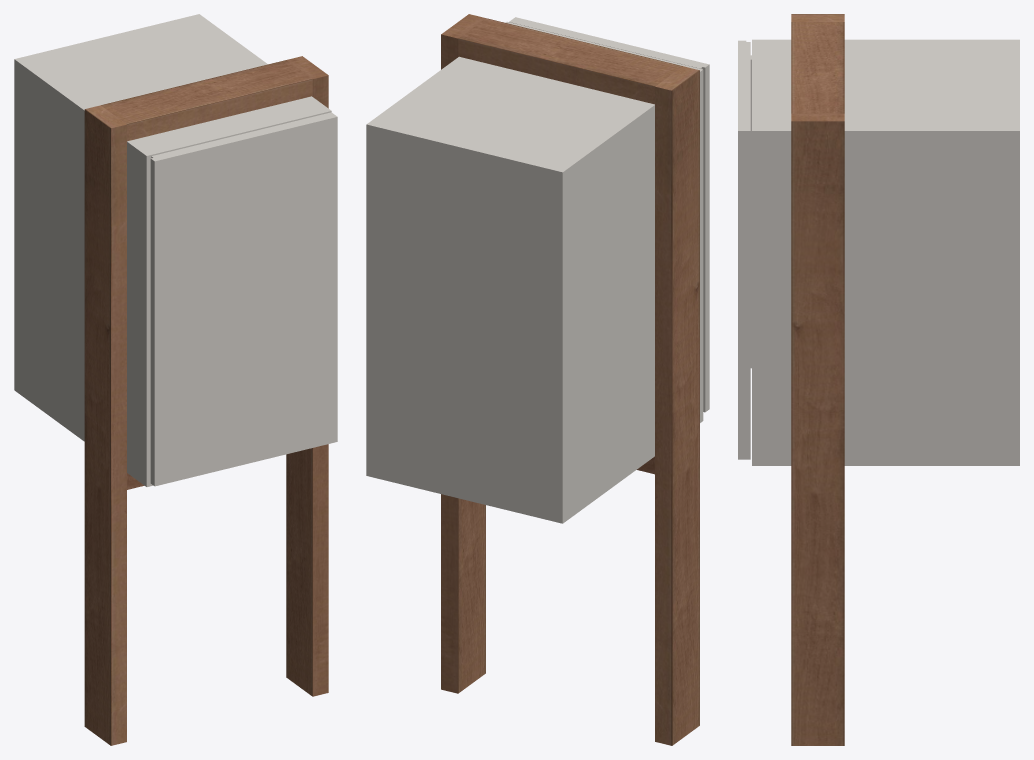
File: de-boxstand_jara.fbx
The picture shows the model from 3 angles, left to right: view 1: azimuth 30°, elevation 25°; view 2: azimuth 150°, elevation 25°; view 3: azimuth 270°, elevation 25°; orthographic projection. The views are drawn at different scales.
Parts seen in each view (by area): view 1: de-boxstand-jara; view 2: de-boxstand-jara; view 3: de-boxstand-jara.
Boxes of the visible parts, left/top/right/bottom form: de-boxstand-jara: left=14, top=14, right=337, bottom=745; de-boxstand-jara: left=366, top=14, right=709, bottom=745; de-boxstand-jara: left=738, top=14, right=1019, bottom=745.
Size of the model in its own units: 40.6 by 110 by 45.
3 materials, 2 textured.
